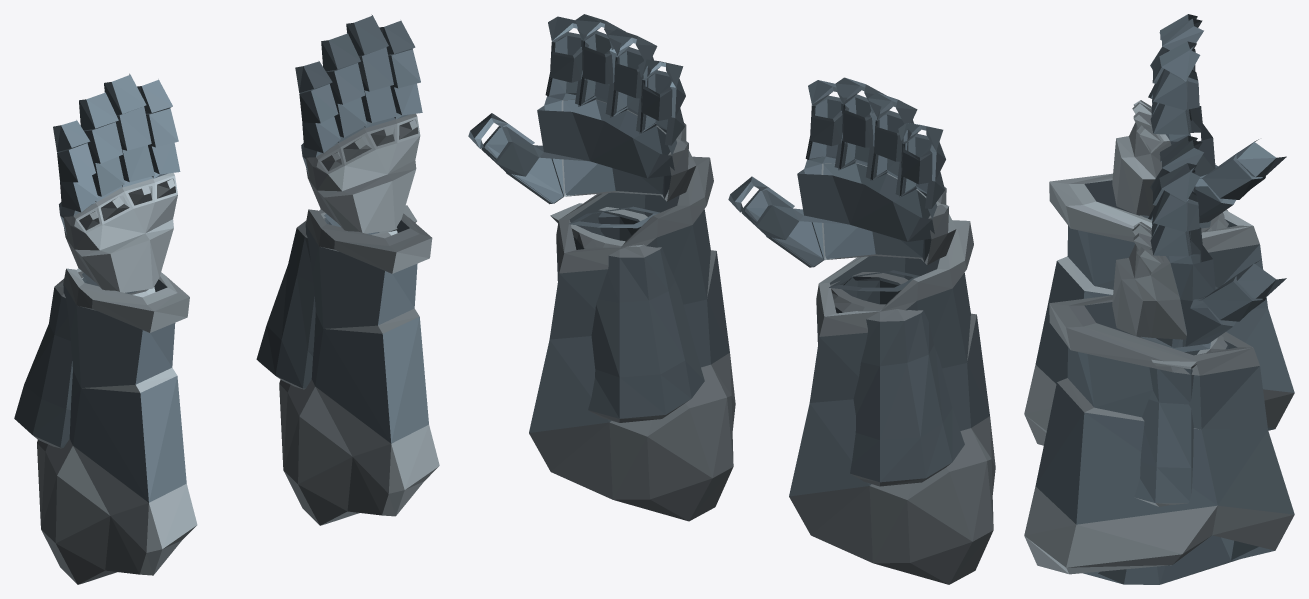
File: steel_hands.glb
3 renders of one model, left to right at view 1: azimuth 30°, elevation 25°; view 2: azimuth 150°, elevation 25°; view 3: azimuth 270°, elevation 25°, orthographic. The views are drawn at different scales.
Visible parts, largest first — view 1: steel_hands; view 2: steel_hands; view 3: steel_hands.
Boxes of the visible parts, <box> form: steel_hands: <box>14,14,439,584</box>; steel_hands: <box>468,14,995,584</box>; steel_hands: <box>1024,14,1294,584</box>.
Bounding box in the file's own units: 0.951 × 1 × 0.514.
